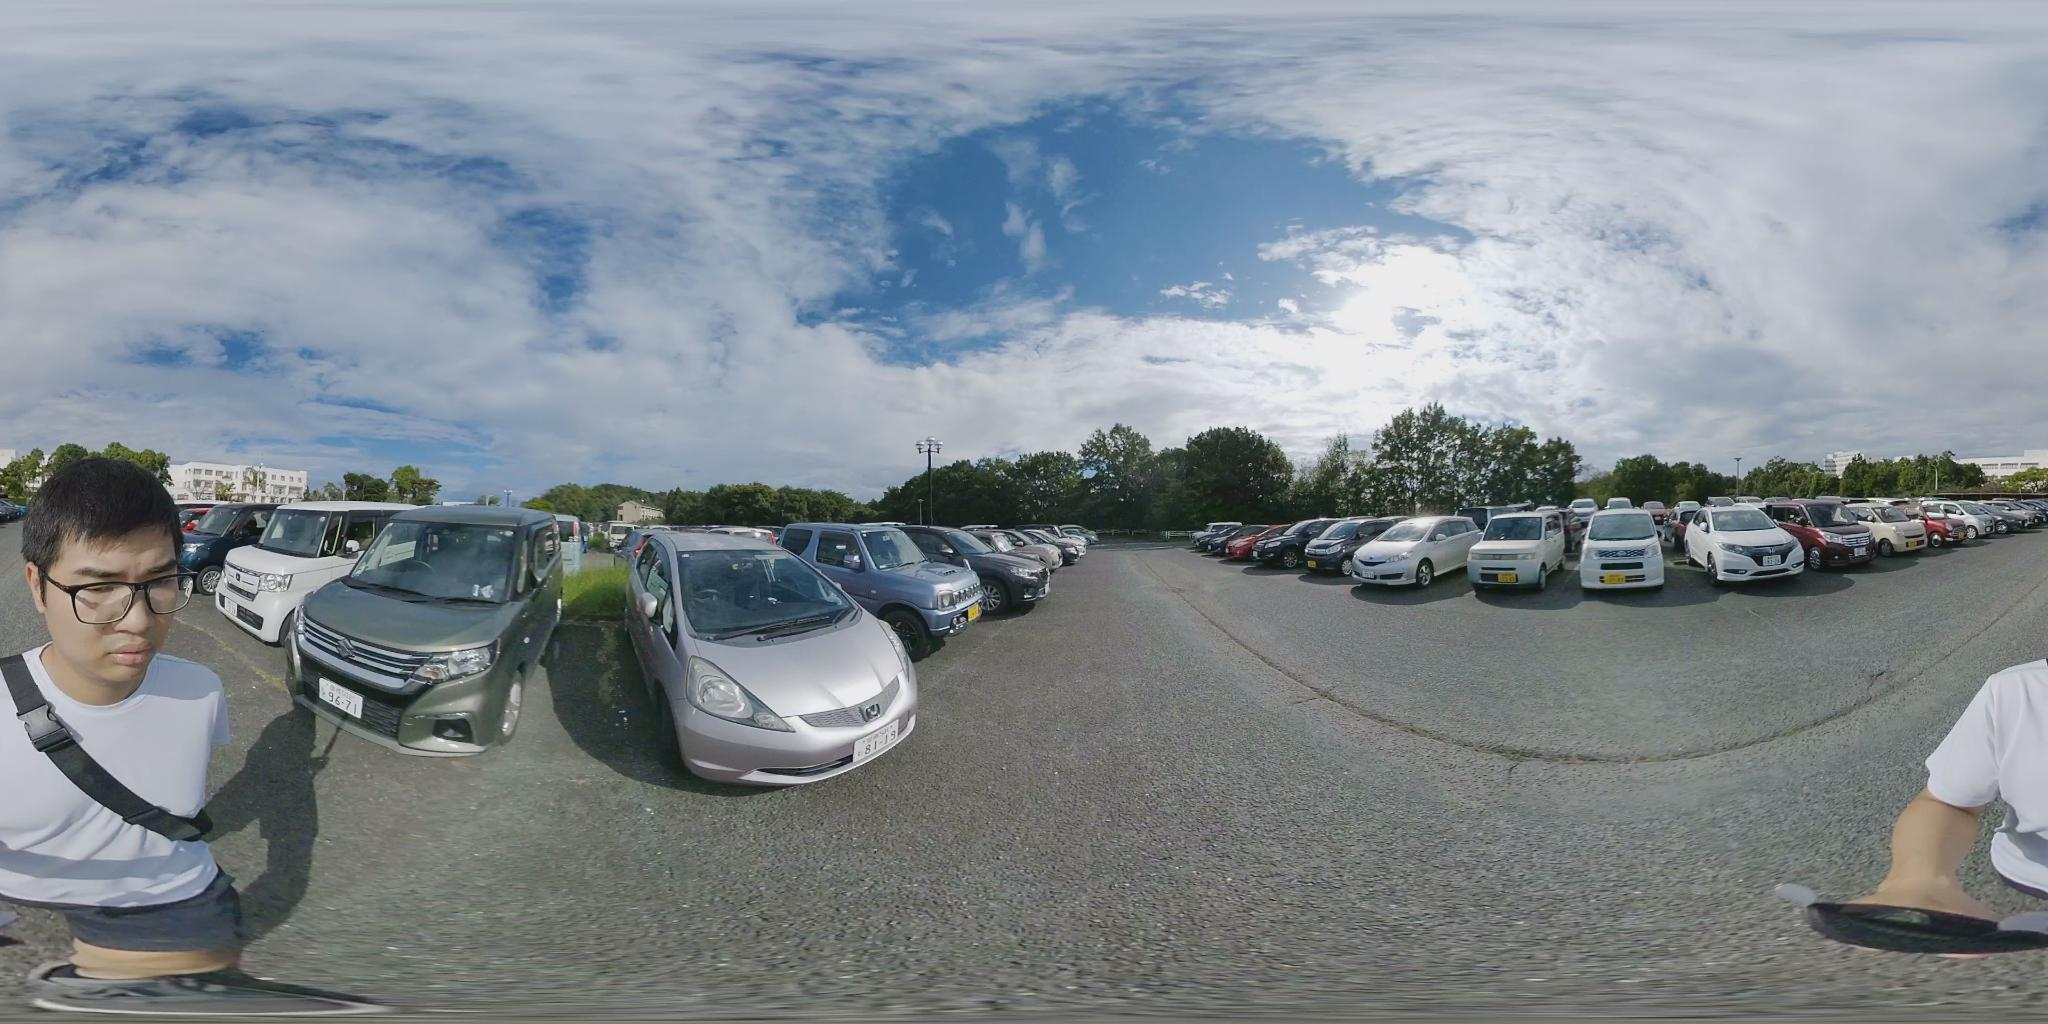car: (624, 530, 920, 780), (293, 509, 569, 752), (196, 499, 430, 650), (777, 524, 1000, 657), (926, 526, 1061, 609), (1674, 504, 1816, 579), (1341, 516, 1485, 588), (1772, 499, 1890, 566), (1851, 503, 1959, 555), (1296, 519, 1388, 573), (1251, 521, 1335, 567), (1012, 524, 1096, 560), (1196, 525, 1270, 559), (1945, 502, 2019, 534)
